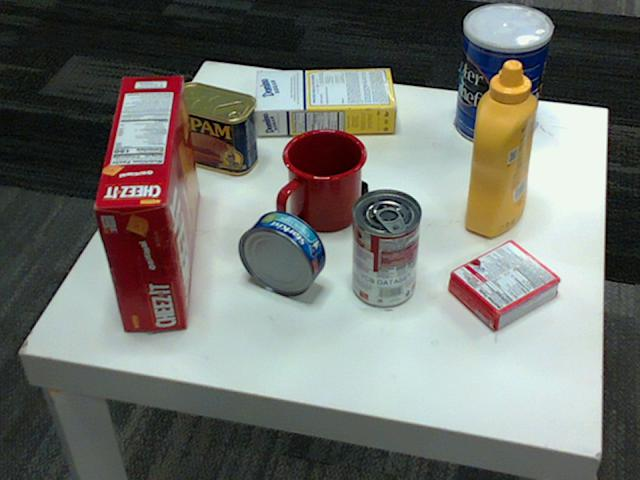cracker_box: (93, 73, 200, 329)
gelatin_box: (448, 240, 561, 331)
large_marker: (290, 142, 366, 195)
master_chef_can: (453, 4, 551, 146)
mug: (280, 126, 368, 229)
mustard_bottle: (464, 61, 537, 236)
potted_meat_can: (166, 83, 258, 174)
sugar_box: (255, 68, 396, 133)
tomato_soup_can: (352, 189, 422, 307)
tuna_fish_can: (239, 211, 326, 295)
